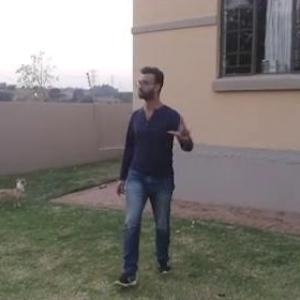land_hand: (165, 114, 198, 146)
